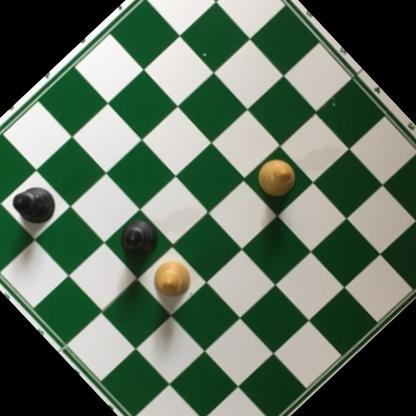black-bishop: (109, 209, 169, 269), (6, 176, 64, 235)
white-bishop: (247, 149, 305, 207), (145, 253, 199, 307)
